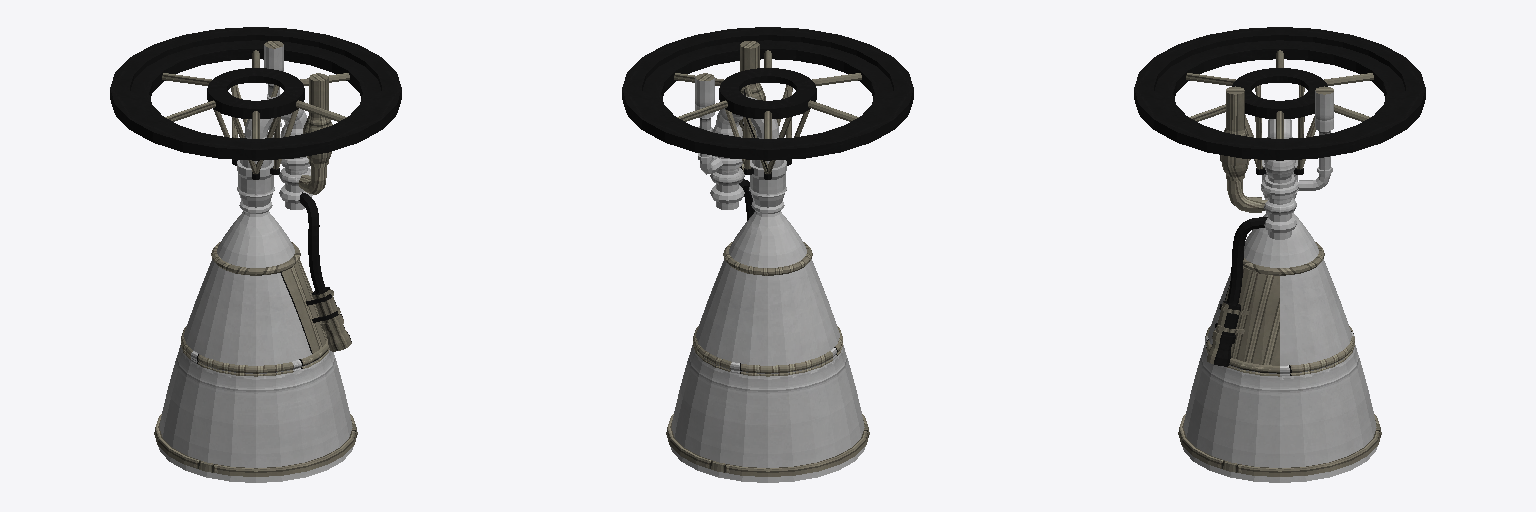
3 renders of one model, left to right at view 1: azimuth 30°, elevation 25°; view 2: azimuth 150°, elevation 25°; view 3: azimuth 270°, elevation 25°, orthographic.
Parts seen in each view (by area): view 1: 3; view 2: 3; view 3: 3.
Boxes of the visible parts, <box> form: 3: <box>110,27,401,482</box>; 3: <box>622,27,913,482</box>; 3: <box>1134,27,1425,482</box>.
Bounding box in the file's own units: 1.88 × 2.62 × 1.88.
1 materials, 1 textured.